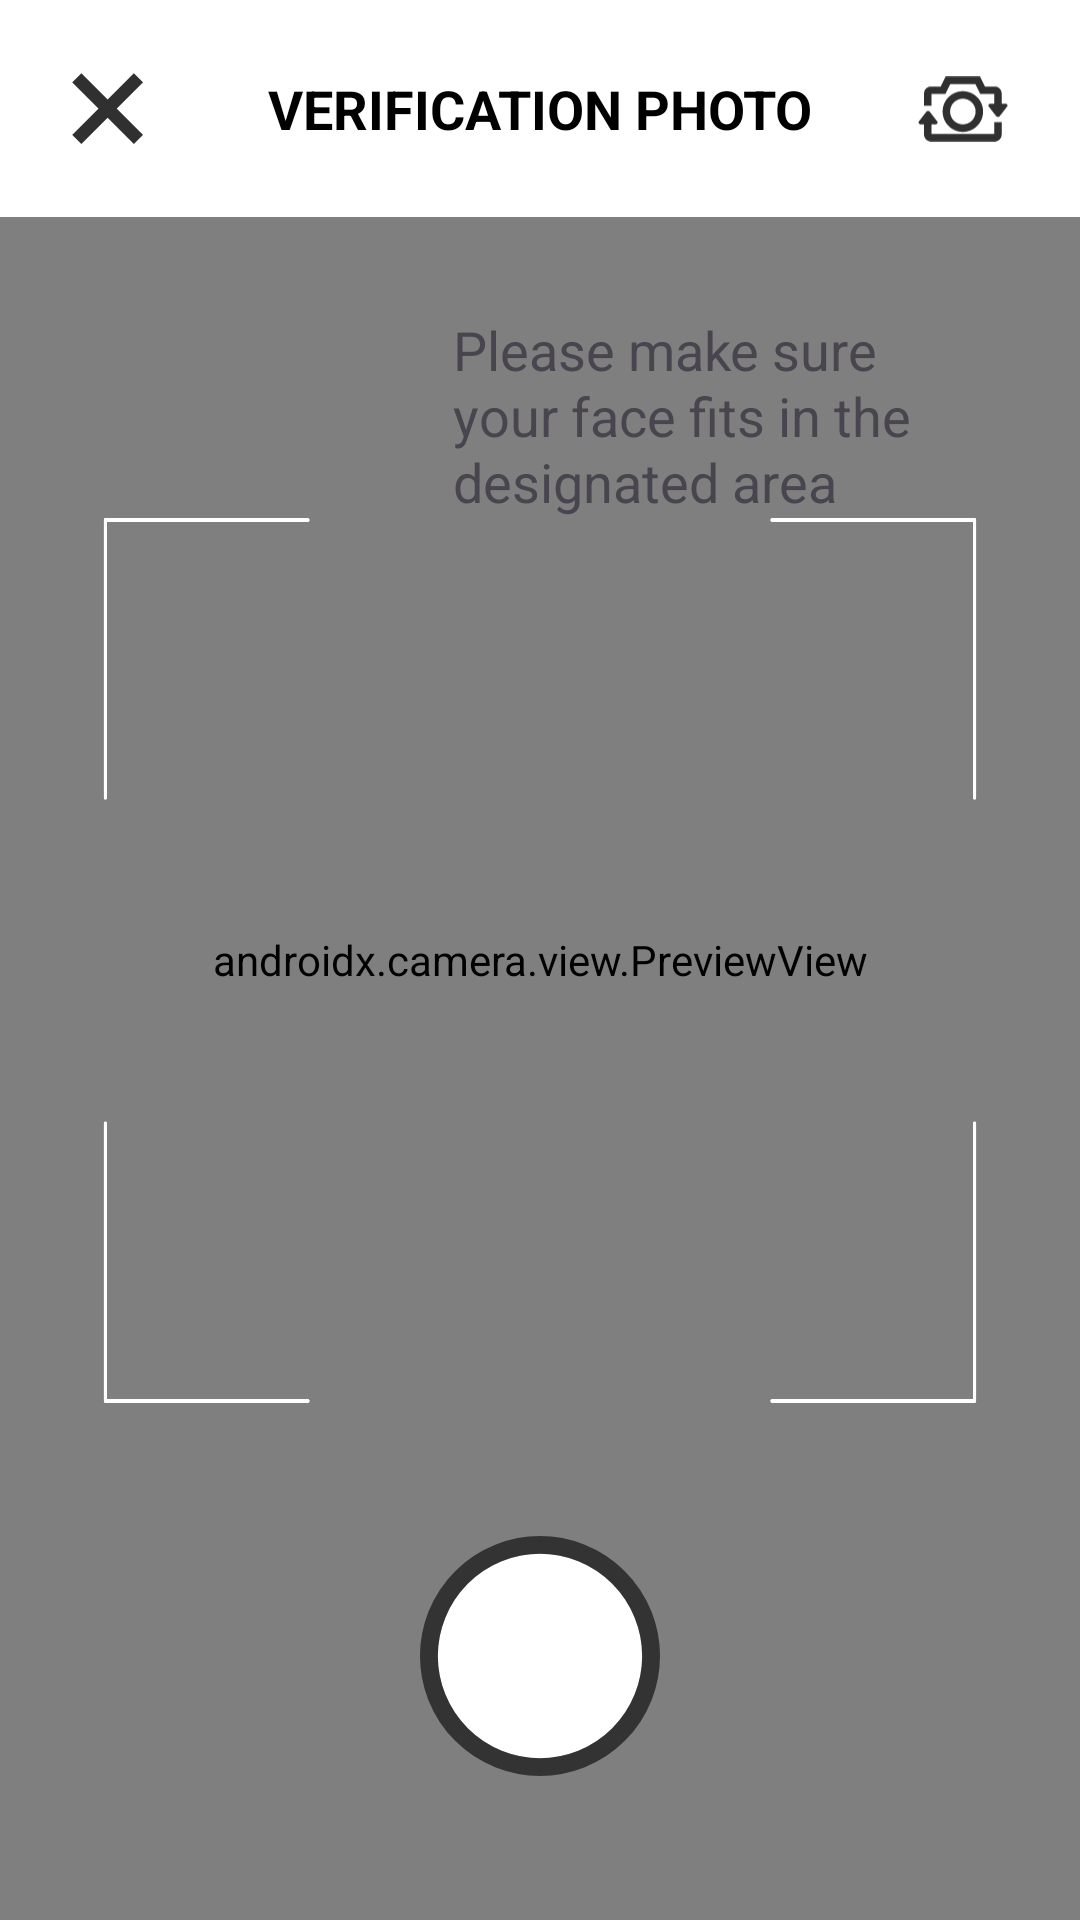

Screen size 1080px x 1920px. Icon name, then its center in pixels as [x,y]:
camera rotate: [963,109]
click photo: [540,1656]
close: [107,108]
